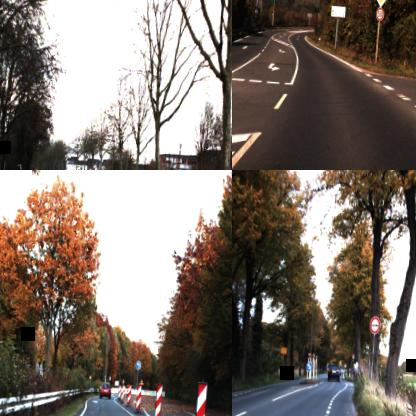go left or straight: (135, 360, 141, 370)
keep right: (306, 362, 312, 372)
no overtaking (trucks): (369, 316, 381, 334)
priority road: (374, 0, 387, 8)
speed limit 50: (375, 6, 384, 22)
